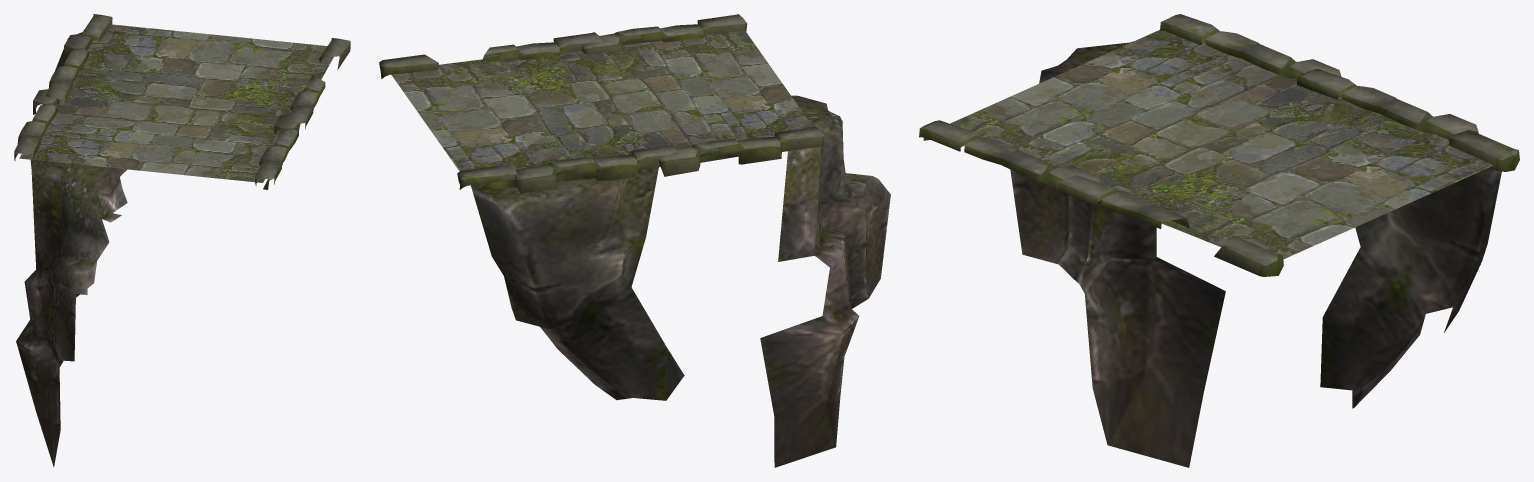
Rendered from S2_Build_XSC076_H1.FBX.
3 renders of one model, left to right at view 1: azimuth 30°, elevation 25°; view 2: azimuth 150°, elevation 25°; view 3: azimuth 270°, elevation 25°, orthographic. The views are drawn at different scales.
Parts seen in each view (by area): view 1: S2_Build_XSC076_H1; view 2: S2_Build_XSC076_H1; view 3: S2_Build_XSC076_H1.
Boxes of the visible parts, <box> form: S2_Build_XSC076_H1: <box>14,14,350,467</box>; S2_Build_XSC076_H1: <box>379,14,890,467</box>; S2_Build_XSC076_H1: <box>919,14,1519,467</box>.
Bounding box in the file's own units: 2304 × 1798 × 2279.
